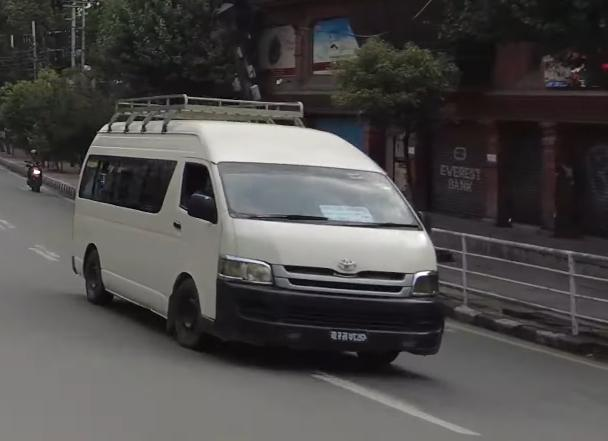bike: (25, 158, 46, 194)
micro_bus: (65, 85, 445, 371)
